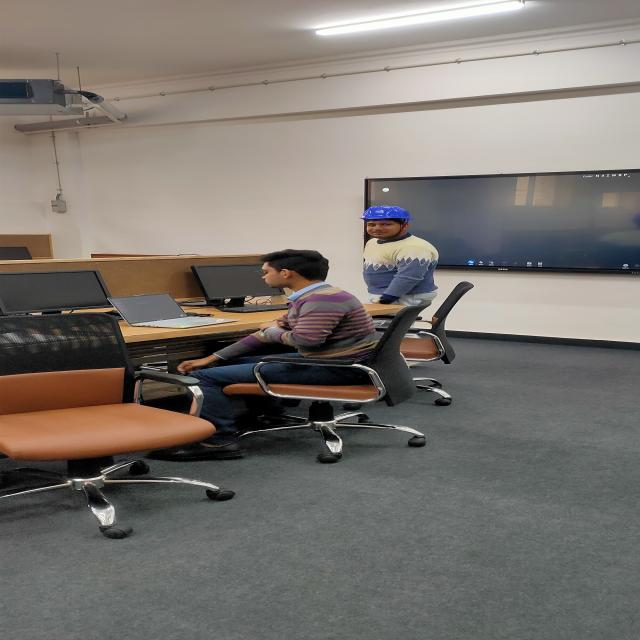no jacket: (358, 204, 445, 306)
unsafe: (151, 248, 379, 462)
